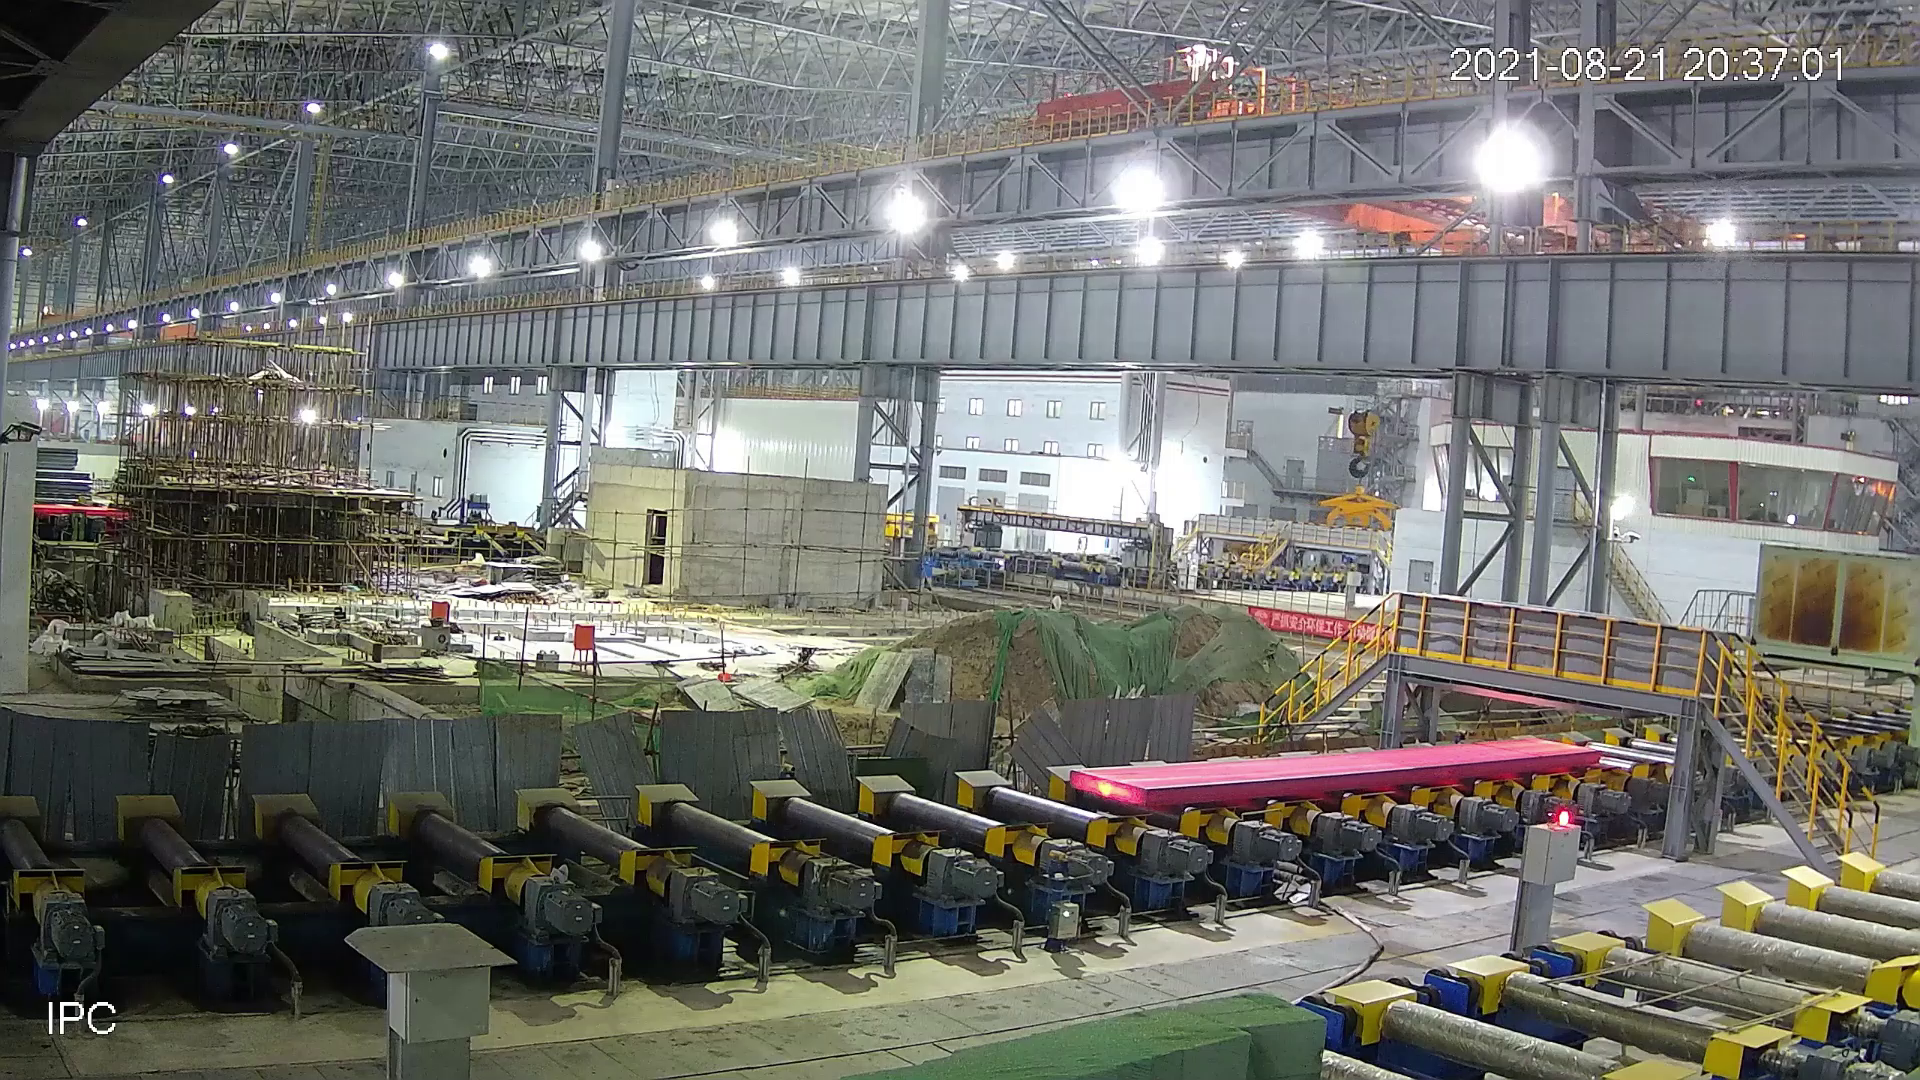slab: (1065, 740, 1601, 812)
